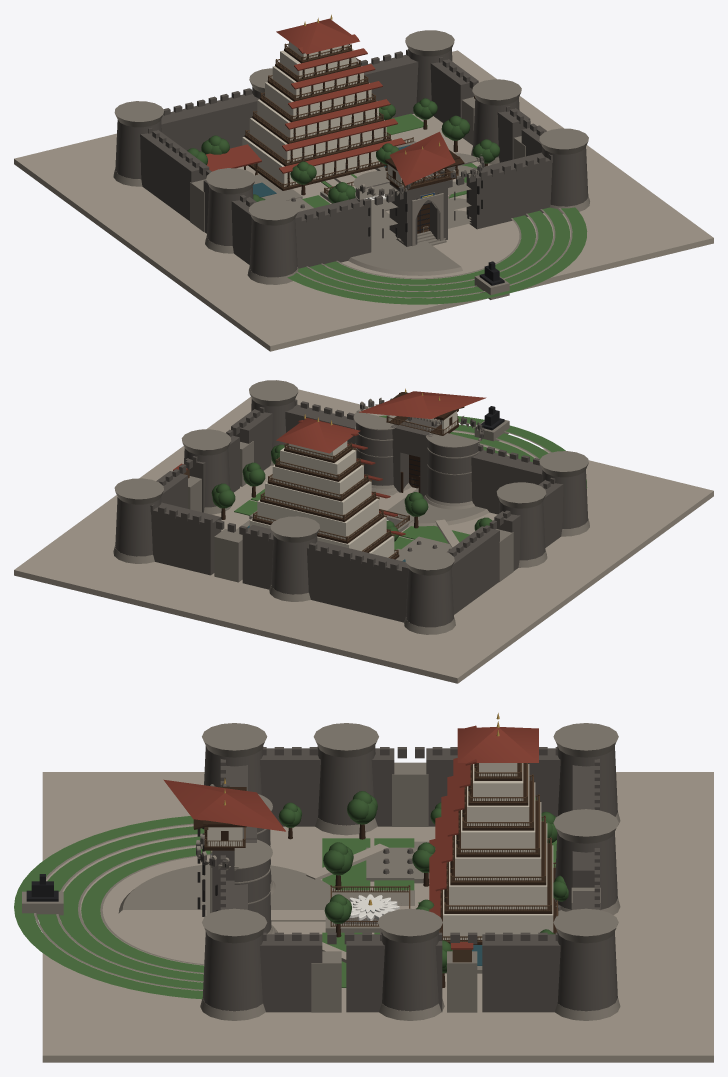
The model's file is shaniwar-wada-1732-reconstruction.glb.
3 renders of one model, top to bottom at view 1: azimuth 30°, elevation 25°; view 2: azimuth 150°, elevation 25°; view 3: azimuth 270°, elevation 25°, orthographic. The views are drawn at different scales.
Parts seen in each view (by area): view 1: object 1, Citadel_Perimeter_Fortifications_And_Gates, Northern_Forecourt_Amphitheater, Citadel_Royal_Gardens_Complex, Storey_2_Ganesh_Mahal, Storey_1_Thorlya_Rayancha_Diwankhana, Storey_3_Arsa_Mahal_Mirror_Hall, Nagarkhana_Balcony_Gallery, Dilli_Darwaza_Portal_Chamber, NW_Corner_Bastion, Storey_4_Royal_Suites, West_Monumental_Bastion (+13 smaller); view 2: object 1, Citadel_Perimeter_Fortifications_And_Gates, Northern_Forecourt_Amphitheater, West_Monumental_Bastion, Citadel_Royal_Gardens_Complex, Nagarkhana_Balcony_Gallery, East_Monumental_Bastion, SW_Corner_Bastion, Storey_4_Royal_Suites, Storey_3_Arsa_Mahal_Mirror_Hall, Dilli_Darwaza_Portal_Chamber, Storey_5_Private_Quarters (+14 smaller); view 3: object 1, Citadel_Perimeter_Fortifications_And_Gates, Northern_Forecourt_Amphitheater, Citadel_Royal_Gardens_Complex, Nagarkhana_Balcony_Gallery, Storey_2_Ganesh_Mahal, SE_Corner_Bastion, NE_Corner_Bastion, Storey_3_Arsa_Mahal_Mirror_Hall, East_Mid_Bastion, Storey_1_Thorlya_Rayancha_Diwankhana, Storey_4_Royal_Suites (+15 smaller).
Boxes of the visible parts, x1=… form: object 1: x1=14, y1=50, x2=713, y2=351; Citadel_Perimeter_Fortifications_And_Gates: x1=113, y1=30, x2=589, y2=284; Northern_Forecourt_Amphitheater: x1=287, y1=175, x2=587, y2=304; Citadel_Royal_Gardens_Complex: x1=187, y1=98, x2=499, y2=213; Storey_2_Ganesh_Mahal: x1=244, y1=118, x2=397, y2=166; Storey_1_Thorlya_Rayancha_Diwankhana: x1=242, y1=137, x2=405, y2=190; Storey_3_Arsa_Mahal_Mirror_Hall: x1=252, y1=99, x2=390, y2=143; Nagarkhana_Balcony_Gallery: x1=385, y1=131, x2=464, y2=191; Dilli_Darwaza_Portal_Chamber: x1=389, y1=172, x2=447, y2=246; NW_Corner_Bastion: x1=249, y1=218, x2=297, y2=277; Storey_4_Royal_Suites: x1=260, y1=81, x2=382, y2=122; West_Monumental_Bastion: x1=353, y1=170, x2=411, y2=244; object 1: x1=14, y1=389, x2=713, y2=683; Citadel_Perimeter_Fortifications_And_Gates: x1=113, y1=380, x2=589, y2=634; Northern_Forecourt_Amphitheater: x1=379, y1=406, x2=587, y2=547; West_Monumental_Bastion: x1=423, y1=416, x2=484, y2=509; Citadel_Royal_Gardens_Complex: x1=211, y1=444, x2=492, y2=549; Nagarkhana_Balcony_Gallery: x1=359, y1=388, x2=486, y2=435; East_Monumental_Bastion: x1=353, y1=397, x2=411, y2=495; SW_Corner_Bastion: x1=406, y1=568, x2=453, y2=627; Storey_4_Royal_Suites: x1=260, y1=475, x2=382, y2=521; Storey_3_Arsa_Mahal_Mirror_Hall: x1=252, y1=492, x2=390, y2=543; Dilli_Darwaza_Portal_Chamber: x1=390, y1=417, x2=440, y2=496; Storey_5_Private_Quarters: x1=267, y1=459, x2=375, y2=501; object 1: x1=42, y1=772, x2=713, y2=1062; Citadel_Perimeter_Fortifications_And_Gates: x1=200, y1=723, x2=620, y2=1020; Northern_Forecourt_Amphitheater: x1=14, y1=816, x2=417, y2=999; Citadel_Royal_Gardens_Complex: x1=271, y1=791, x2=568, y2=987; Nagarkhana_Balcony_Gallery: x1=163, y1=778, x2=285, y2=850; Storey_2_Ganesh_Mahal: x1=435, y1=817, x2=552, y2=913; SE_Corner_Bastion: x1=557, y1=931, x2=617, y2=1011; NE_Corner_Bastion: x1=202, y1=931, x2=263, y2=1011; Storey_3_Arsa_Mahal_Mirror_Hall: x1=441, y1=796, x2=546, y2=885; East_Mid_Bastion: x1=381, y1=932, x2=439, y2=1011; Storey_1_Thorlya_Rayancha_Diwankhana: x1=429, y1=839, x2=558, y2=944; Storey_4_Royal_Suites: x1=447, y1=776, x2=540, y2=857.
Size of the model in its own units: 84 by 27.65 by 87.6.
